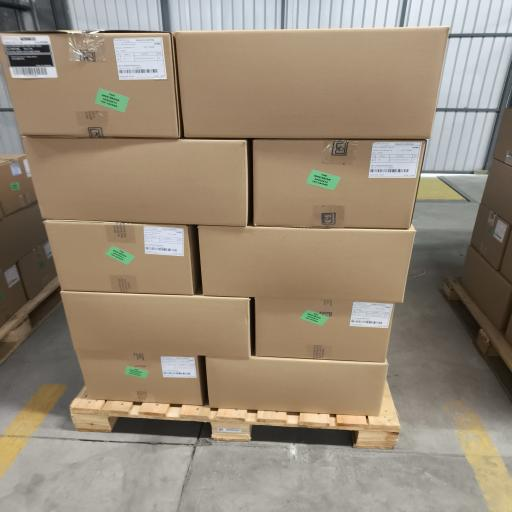pallet: (71, 384, 400, 449), (444, 278, 511, 398), (0, 277, 61, 364)
